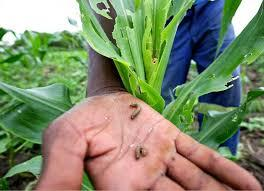fallarmy_worm: (126, 100, 144, 122), (131, 145, 148, 158)
